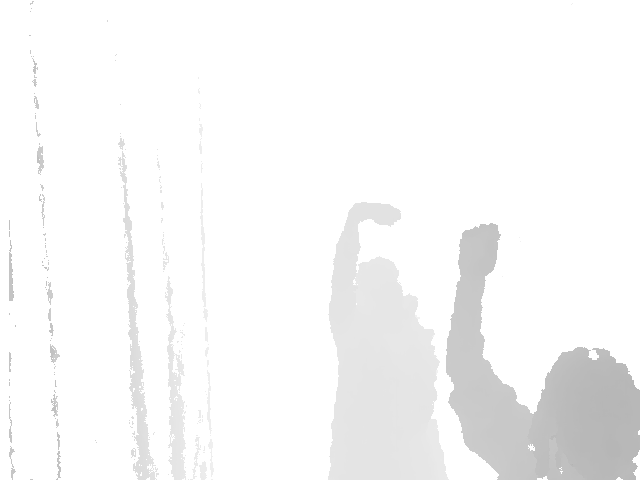hand: (458, 223, 500, 275), (352, 201, 402, 228)
head: (539, 346, 640, 475), (351, 257, 399, 311)
person: (443, 224, 640, 480), (325, 201, 450, 479)
